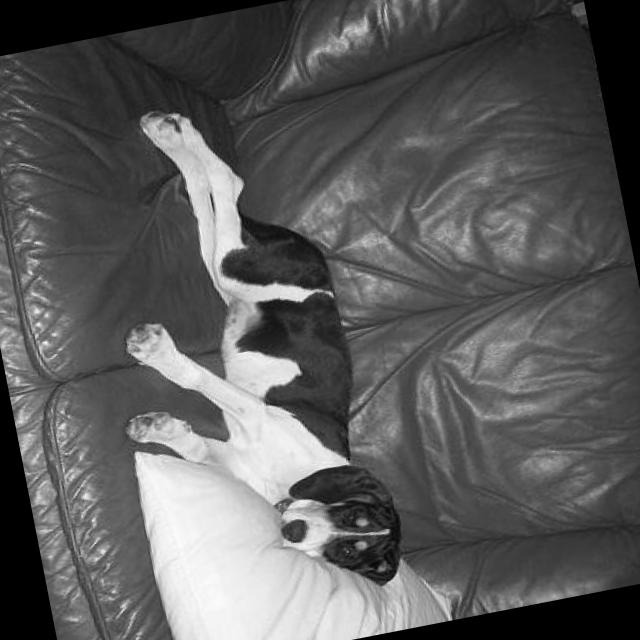laying down: (56, 72, 420, 632)
